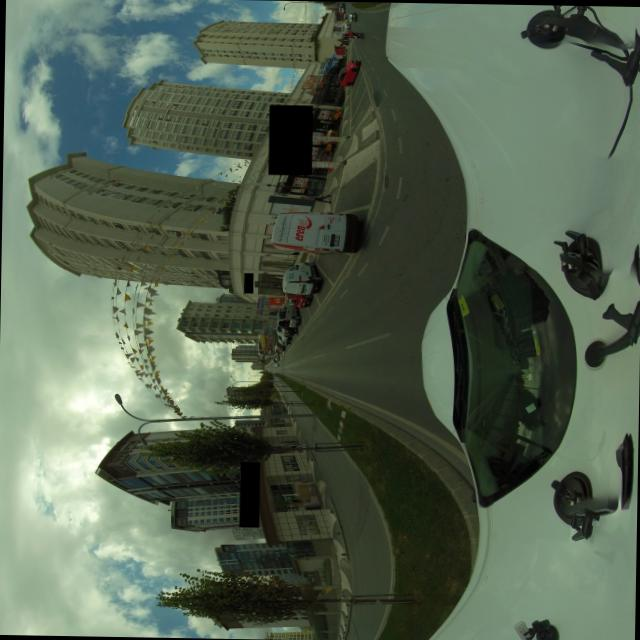SignStore: (268, 104, 312, 174), (240, 461, 259, 526), (244, 272, 253, 292)
